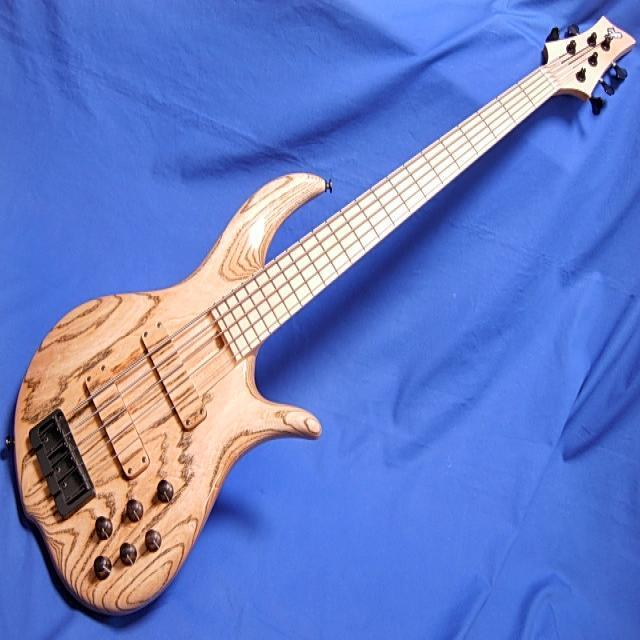bass: (15, 18, 634, 612)
